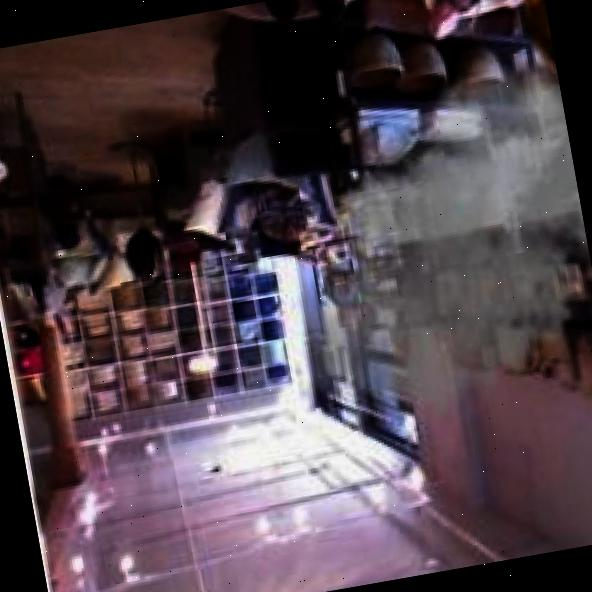smoke: (248, 36, 592, 458)
